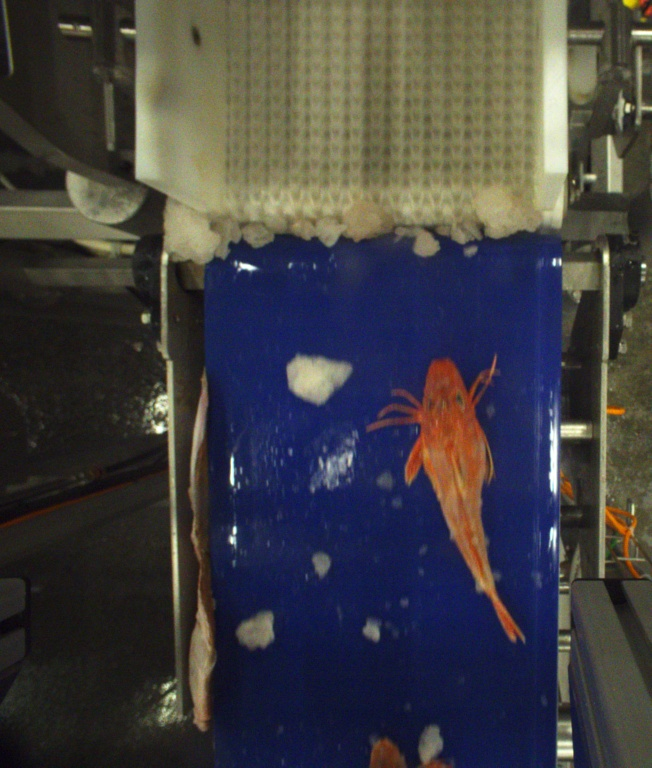GUU: (376, 358, 521, 643)
